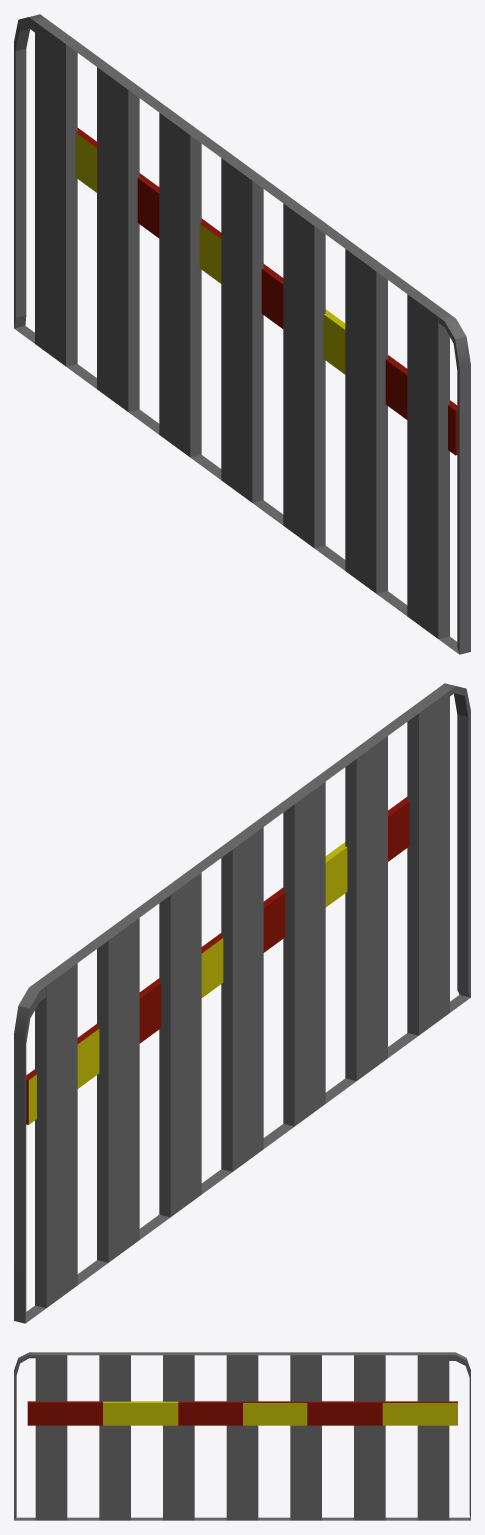
Rendered from Blocage_1.fbx.
The picture shows the model from 3 angles, top to bottom: view 1: azimuth 30°, elevation 25°; view 2: azimuth 150°, elevation 25°; view 3: azimuth 270°, elevation 25°; orthographic projection. The views are drawn at different scales.
Parts seen in each view (by area): view 1: Blockage_1; view 2: Blockage_1; view 3: Blockage_1.
Boxes of the visible parts, left/top/right/bottom form: Blockage_1: left=14, top=14, right=470, bottom=654; Blockage_1: left=14, top=683, right=470, bottom=1323; Blockage_1: left=14, top=1352, right=470, bottom=1520.
Bounding box in the file's own units: 0.3775 × 7.2 × 18.04.
